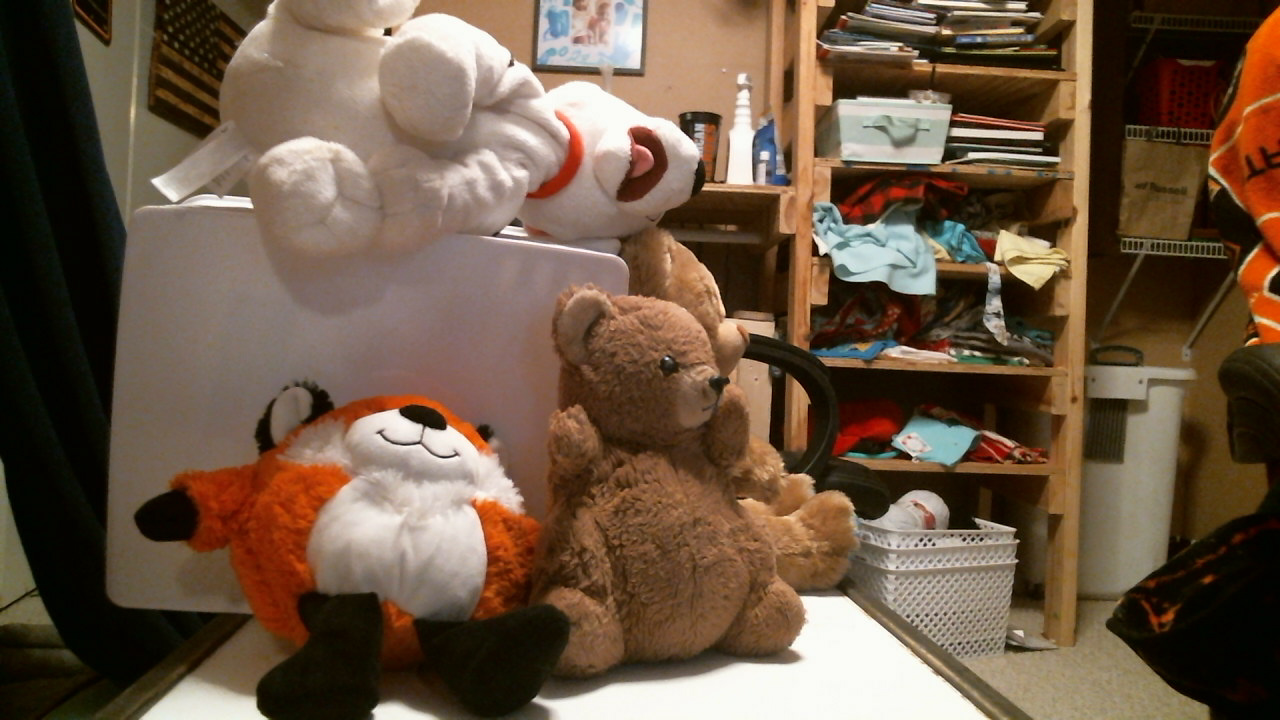Little_Mister_Bear: (656, 358, 725, 431)
